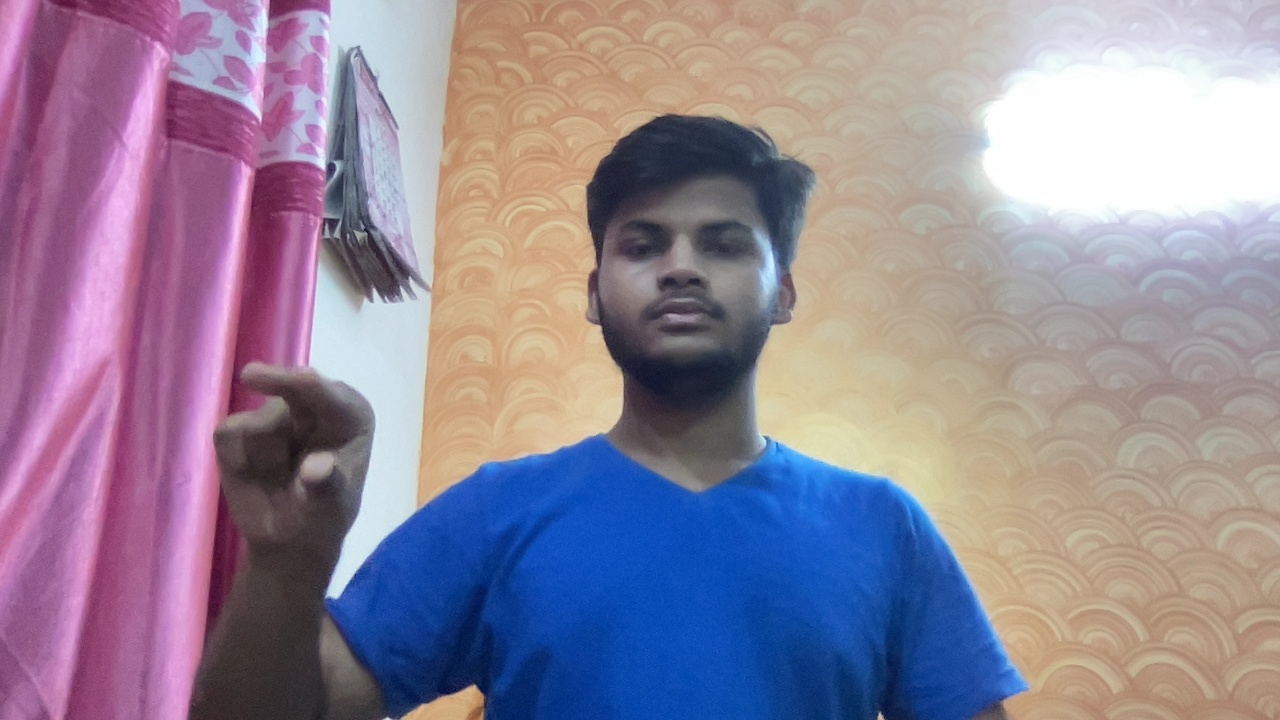no: (199, 343, 375, 580)
